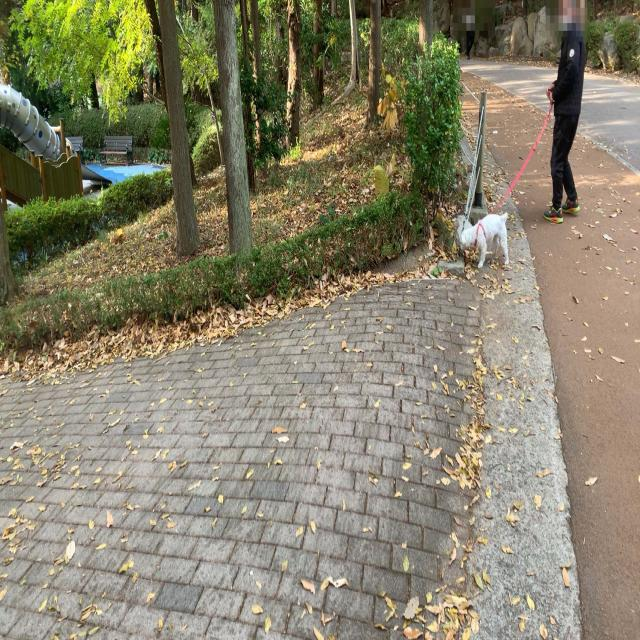Leashed_Dog: (455, 77, 579, 267)
